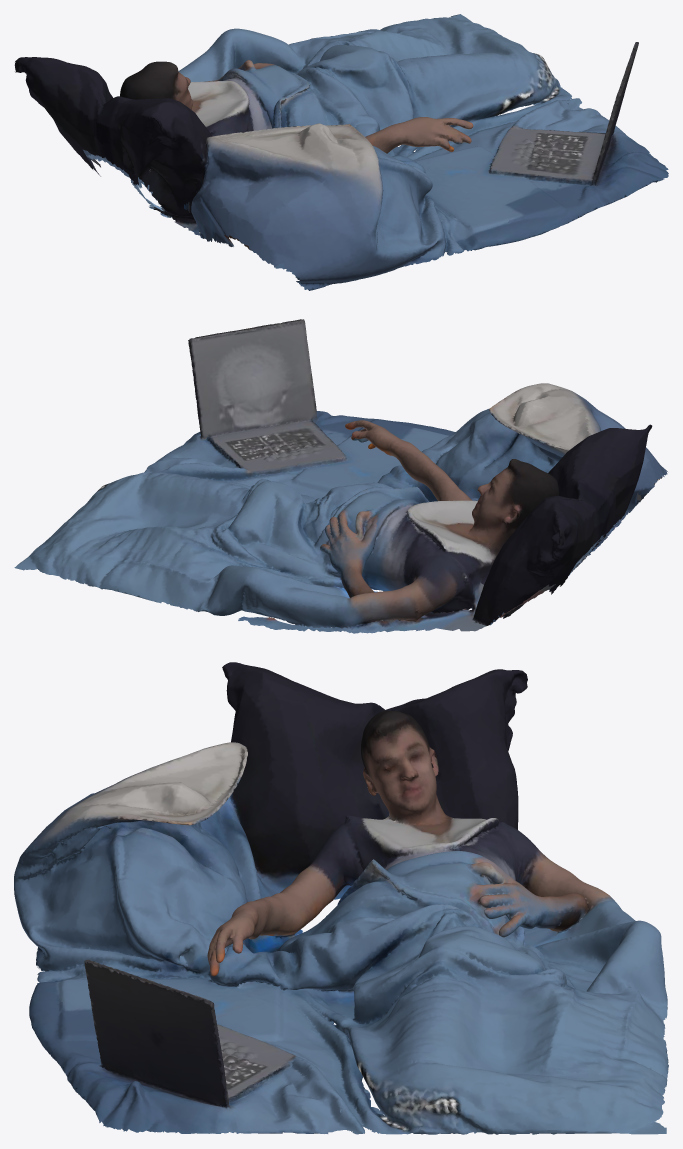
The model's file is meme3_present.fbx.
3 views of the same model, one above another, from view 1: azimuth 30°, elevation 25°; view 2: azimuth 150°, elevation 25°; view 3: azimuth 270°, elevation 25° (orthographic). The views are drawn at different scales.
Visible parts, largest first — view 1: tripo_node_1a7d13e6-3df4-41b7-b0c8-e623d7a9d8e7; view 2: tripo_node_1a7d13e6-3df4-41b7-b0c8-e623d7a9d8e7; view 3: tripo_node_1a7d13e6-3df4-41b7-b0c8-e623d7a9d8e7.
Part boxes in pixels (x1,y1,x2,y2): tripo_node_1a7d13e6-3df4-41b7-b0c8-e623d7a9d8e7: (14,14,668,290); tripo_node_1a7d13e6-3df4-41b7-b0c8-e623d7a9d8e7: (14,319,667,633); tripo_node_1a7d13e6-3df4-41b7-b0c8-e623d7a9d8e7: (14,662,668,1134).
Size of the model in its own units: 97.83 by 25.53 by 85.85.
Materials: 1 (1 with a texture image).
